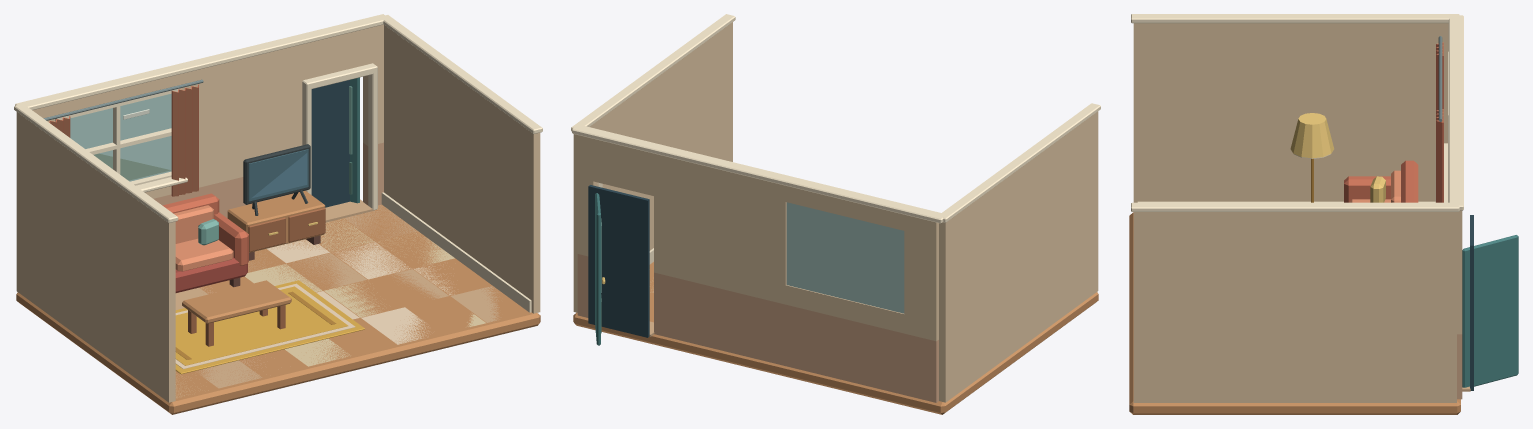
Rendered from living-room.glb.
3 views of the same model, side by side, from view 1: azimuth 30°, elevation 25°; view 2: azimuth 150°, elevation 25°; view 3: azimuth 270°, elevation 25° (orthographic). The views are drawn at different scales.
Parts seen in each view (by area): view 1: architecture_stone_plaster_metal, intact_rug, intact_sofa, intact_tv_console, intact_coffee_table, intact_television, intact_curtain_right, intact_door; view 2: architecture_stone_plaster_metal, intact_door; view 3: architecture_stone_plaster_metal, intact_door, intact_sofa, intact_floor_lamp, intact_curtain_right.
Boxes of the visible parts, bbox=[...] form: architecture_stone_plaster_metal: bbox=[14, 14, 542, 414]; intact_rug: bbox=[175, 280, 364, 374]; intact_sofa: bbox=[162, 193, 248, 292]; intact_tv_console: bbox=[227, 191, 325, 260]; intact_coffee_table: bbox=[182, 280, 291, 346]; intact_television: bbox=[243, 144, 310, 215]; intact_curtain_right: bbox=[171, 84, 198, 196]; intact_door: bbox=[349, 77, 359, 203]; architecture_stone_plaster_metal: bbox=[571, 14, 1100, 414]; intact_door: bbox=[595, 193, 605, 345]; architecture_stone_plaster_metal: bbox=[1129, 14, 1473, 414]; intact_door: bbox=[1462, 235, 1518, 387]; intact_sofa: bbox=[1344, 160, 1418, 202]; intact_floor_lamp: bbox=[1290, 113, 1334, 202]; intact_curtain_right: bbox=[1436, 109, 1443, 202].
Size of what is drawn, in the model's own units: 6.7 by 3.38 by 5.68.
1 material, 1 textured.
